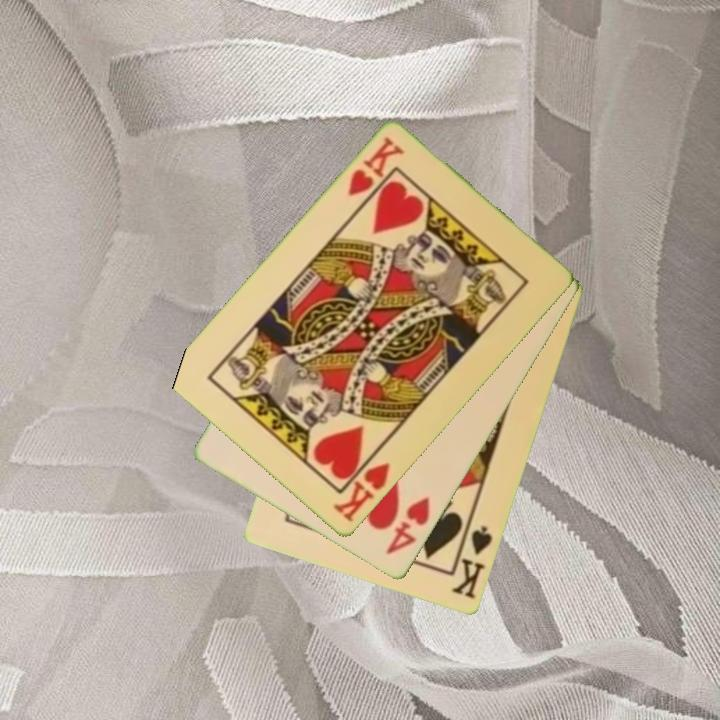4h: (382, 493, 433, 559)
Kh: (330, 447, 393, 526), (344, 133, 408, 200)
Ks: (448, 518, 496, 603)
